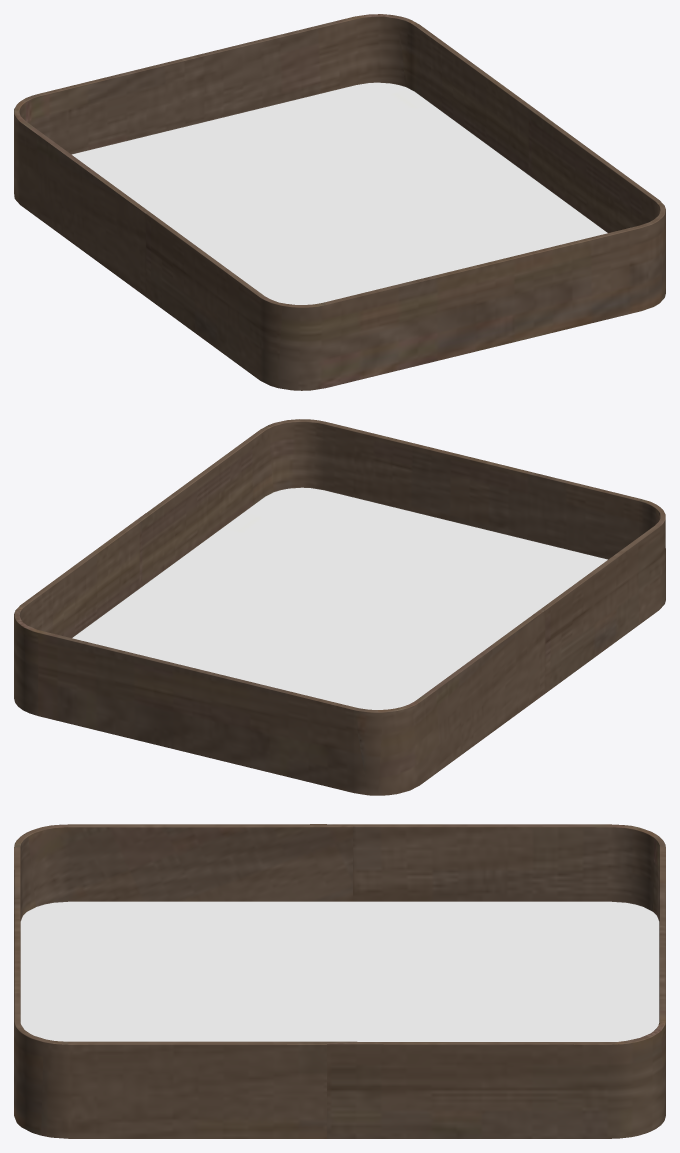
The model's file is 09 - DVÄRGSYREN Mirror - walnut veneer 40x50 cm.glb.
The picture shows the model from 3 angles, top to bottom: view 1: azimuth 30°, elevation 25°; view 2: azimuth 150°, elevation 25°; view 3: azimuth 270°, elevation 25°; orthographic projection. The views are drawn at different scales.
Parts seen in each view (by area): view 1: 20591600-DVÃƒâ€žRGSYREN001; view 2: 20591600-DVÃƒâ€žRGSYREN001; view 3: 20591600-DVÃƒâ€žRGSYREN001.
Boxes of the visible parts, x1,y1,x2,y2 form: 20591600-DVÃƒâ€žRGSYREN001: (14,14,665,390); 20591600-DVÃƒâ€žRGSYREN001: (14,419,665,795); 20591600-DVÃƒâ€žRGSYREN001: (14,824,665,1138).
Size of the model in its own units: 0.4 by 0.08 by 0.5.
Materials: 2 (2 with a texture image).
